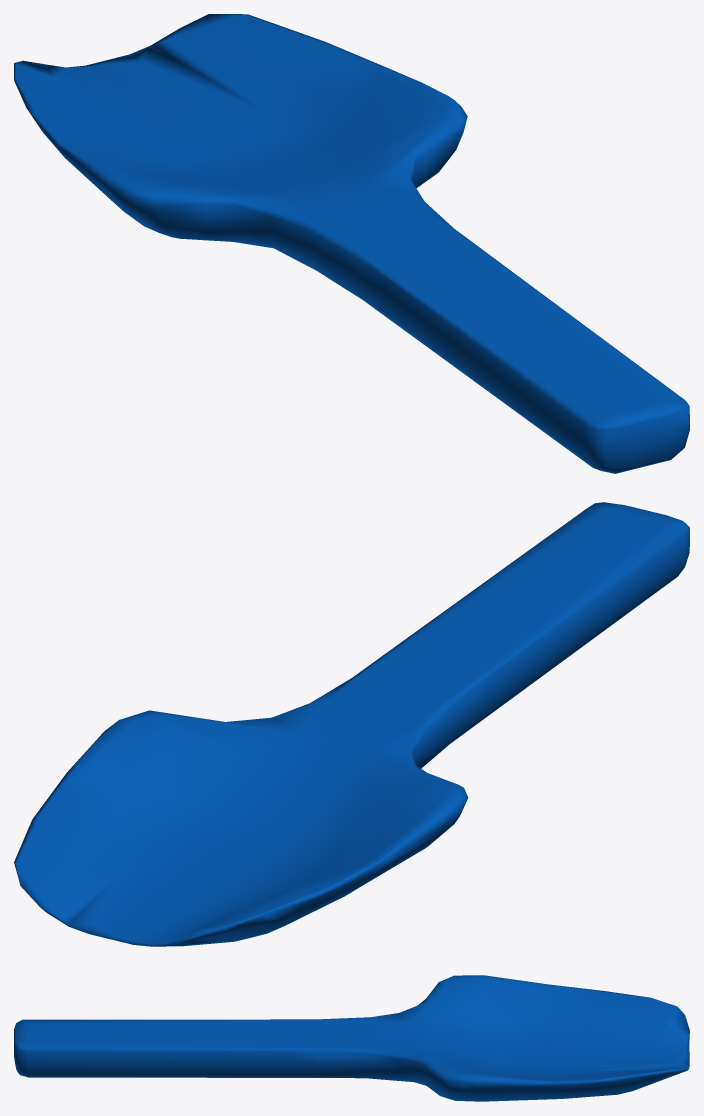
File: spade.fbx
3 renders of one model, top to bottom at view 1: azimuth 30°, elevation 25°; view 2: azimuth 150°, elevation 25°; view 3: azimuth 270°, elevation 25°, orthographic. The views are drawn at different scales.
Parts seen in each view (by area): view 1: Plane; view 2: Plane; view 3: Plane.
Part boxes in pixels (x1,y1,x2,y2): Plane: (14, 14, 689, 473); Plane: (14, 502, 689, 946); Plane: (14, 975, 689, 1101).
Size of the model in its own units: 191 by 36.22 by 515.
